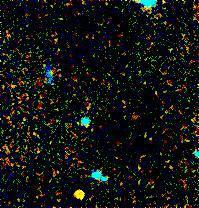star: (66, 181, 96, 208)
